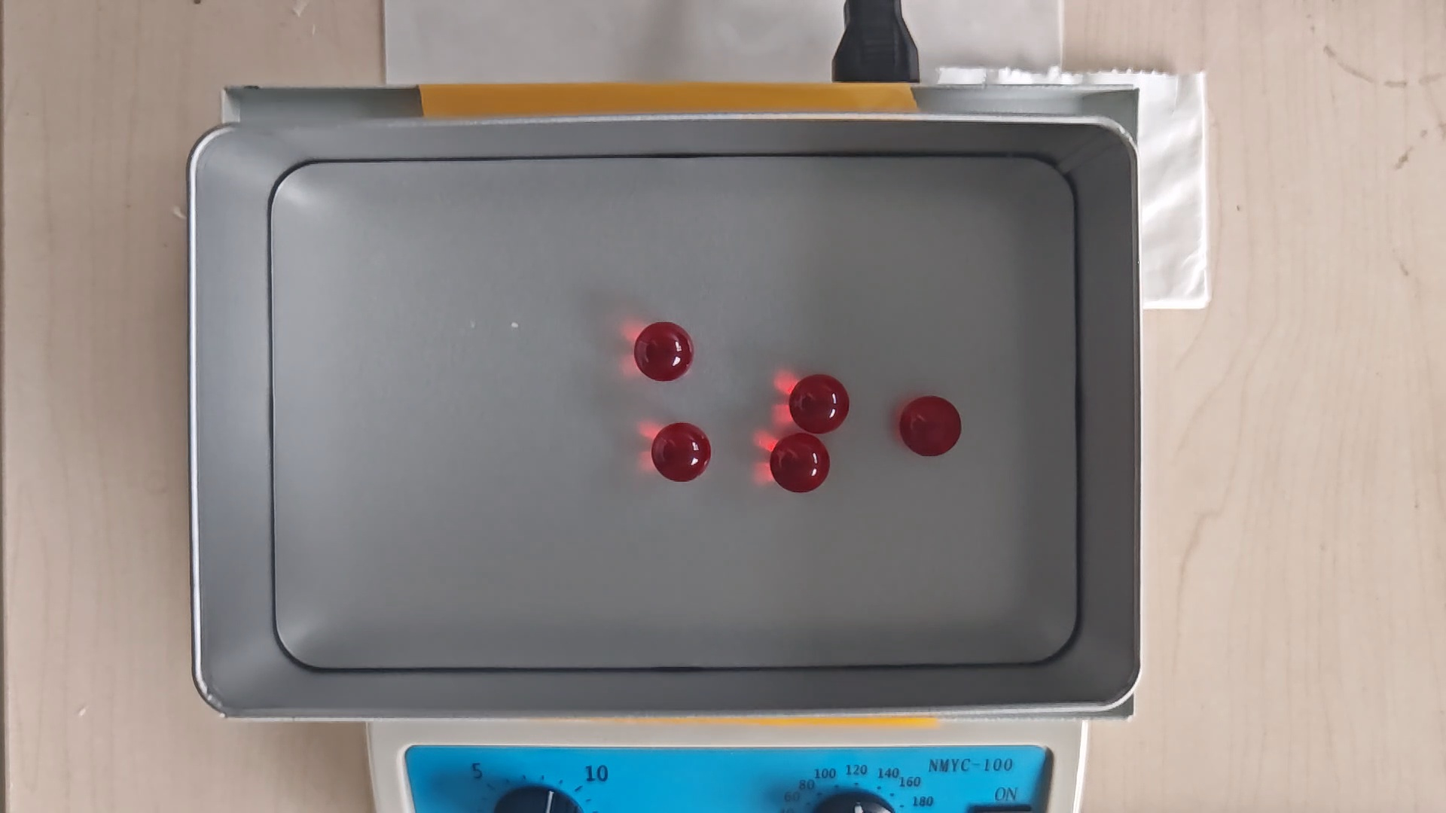ball: (898, 394, 962, 455), (791, 374, 852, 434), (770, 435, 830, 494), (637, 322, 694, 380), (651, 425, 712, 479)
container: (269, 151, 1081, 673)
